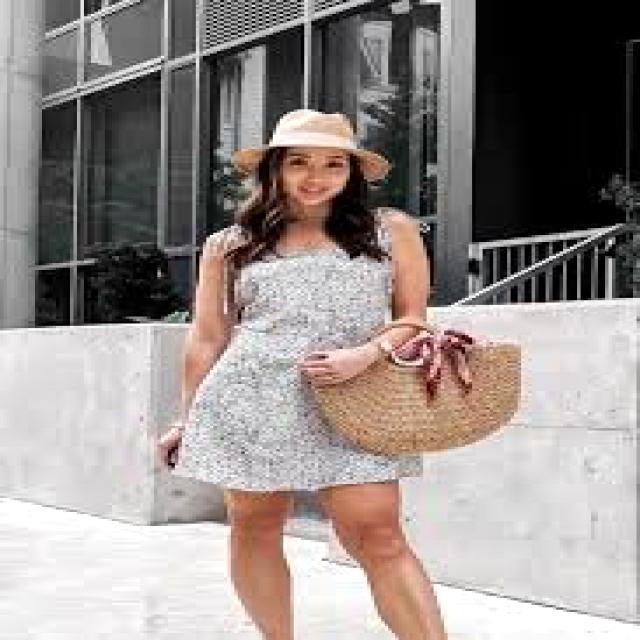dress: (172, 247, 423, 491)
hat: (231, 110, 391, 181)
